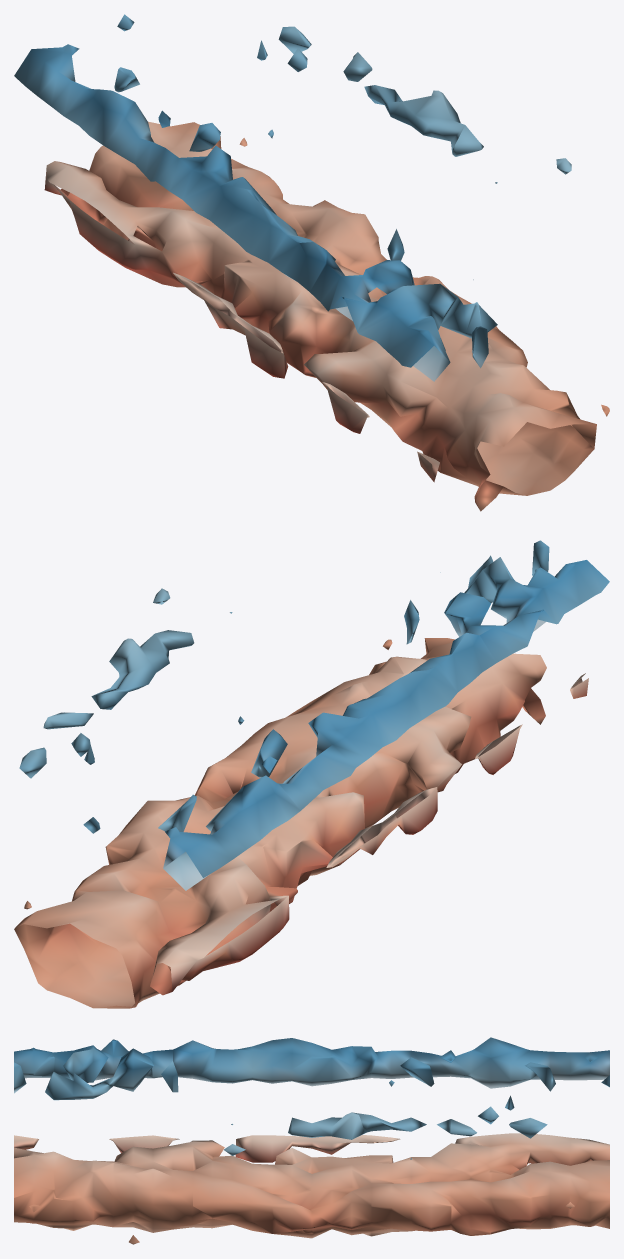
3 renders of one model, top to bottom at view 1: azimuth 30°, elevation 25°; view 2: azimuth 150°, elevation 25°; view 3: azimuth 270°, elevation 25°, orthographic. The views are drawn at different scales.
Bounding box in the file's own units: 1.11 × 0.7687 × 2.5.
